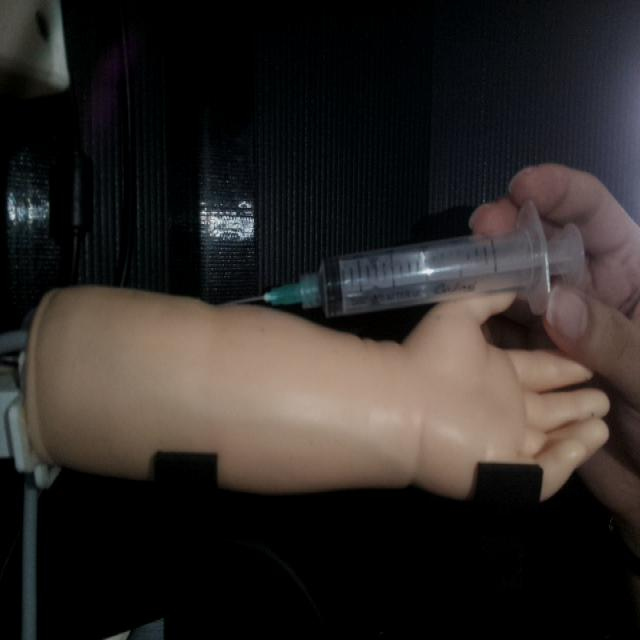Below 15 degrees: (225, 198, 587, 322)
